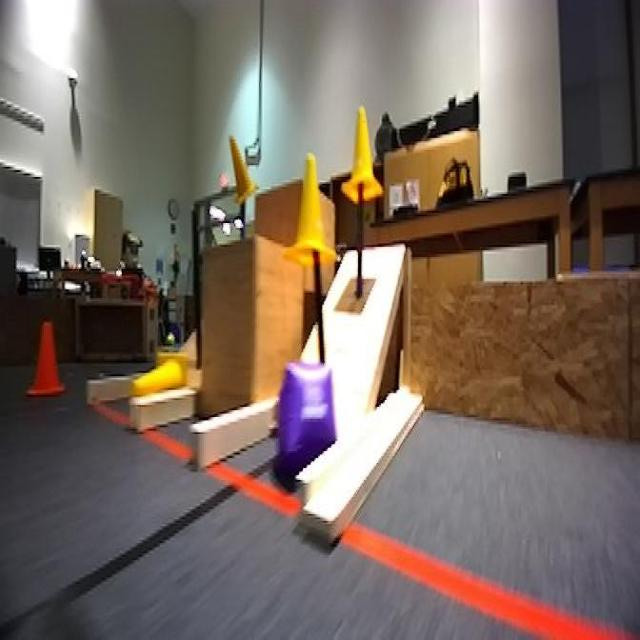frc_cone: (289, 153, 340, 266), (341, 104, 383, 206), (132, 352, 190, 402), (225, 128, 255, 204)
frc_cube: (271, 358, 338, 472)
